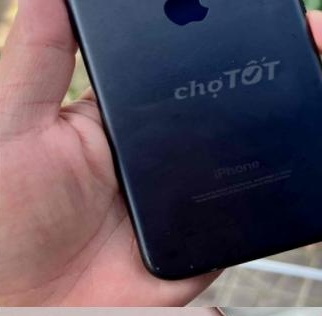scratch: (147, 252, 224, 286), (282, 15, 302, 42)
